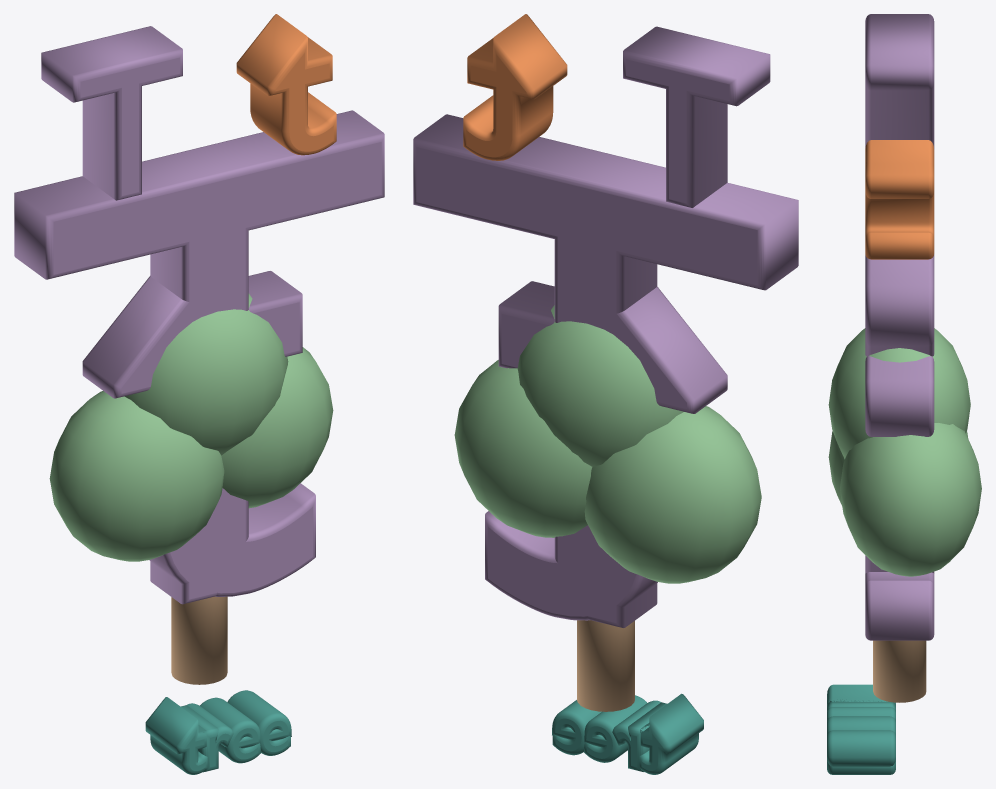
Rendered from letter-t.glb.
3 views of the same model, side by side, from view 1: azimuth 30°, elevation 25°; view 2: azimuth 150°, elevation 25°; view 3: azimuth 270°, elevation 25° (orthographic). The views are drawn at different scales.
Visible parts, largest first — view 1: letter solid, leaf canopy, letter solid.001, leaf canopy.002, uppercase solid, leaf canopy.001, lowercase solid, example word, tree trunk; view 2: letter solid, leaf canopy, letter solid.001, leaf canopy.001, leaf canopy.002, uppercase solid, lowercase solid, example word, tree trunk; view 3: leaf canopy.001, letter solid.001, uppercase solid, lowercase solid, leaf canopy.002, letter solid, example word, tree trunk, leaf canopy.
Part boxes in pixels (x1=…): letter solid: x1=14, y1=110, x2=384, y2=604; leaf canopy: x1=49, y1=391, x2=224, y2=561; letter solid.001: x1=82, y1=268, x2=315, y2=596; leaf canopy.002: x1=124, y1=293, x2=288, y2=455; uppercase solid: x1=41, y1=26, x2=182, y2=200; leaf canopy.001: x1=221, y1=347, x2=333, y2=508; lowercase solid: x1=236, y1=14, x2=336, y2=155; example word: x1=145, y1=690, x2=291, y2=774; tree trunk: x1=171, y1=596, x2=227, y2=684; letter solid: x1=413, y1=114, x2=798, y2=627; leaf canopy: x1=584, y1=406, x2=761, y2=583; letter solid.001: x1=485, y1=277, x2=727, y2=620; leaf canopy.001: x1=454, y1=360, x2=592, y2=537; leaf canopy.002: x1=517, y1=305, x2=683, y2=466; uppercase solid: x1=623, y1=26, x2=770, y2=207; lowercase solid: x1=463, y1=14, x2=567, y2=160; example word: x1=552, y1=693, x2=703, y2=774; tree trunk: x1=577, y1=620, x2=634, y2=711; leaf canopy.001: x1=840, y1=423, x2=981, y2=576; letter solid.001: x1=865, y1=356, x2=934, y2=640; uppercase solid: x1=865, y1=14, x2=934, y2=148; lowercase solid: x1=865, y1=140, x2=934, y2=259; leaf canopy.002: x1=828, y1=328, x2=970, y2=459; letter solid: x1=865, y1=254, x2=934, y2=573; example word: x1=827, y1=684, x2=895, y2=774; tree trunk: x1=873, y1=640, x2=926, y2=702; leaf canopy: x1=828, y1=431, x2=968, y2=505.
Size of the model in its own units: 0.9705 by 1.94 by 0.4046.
